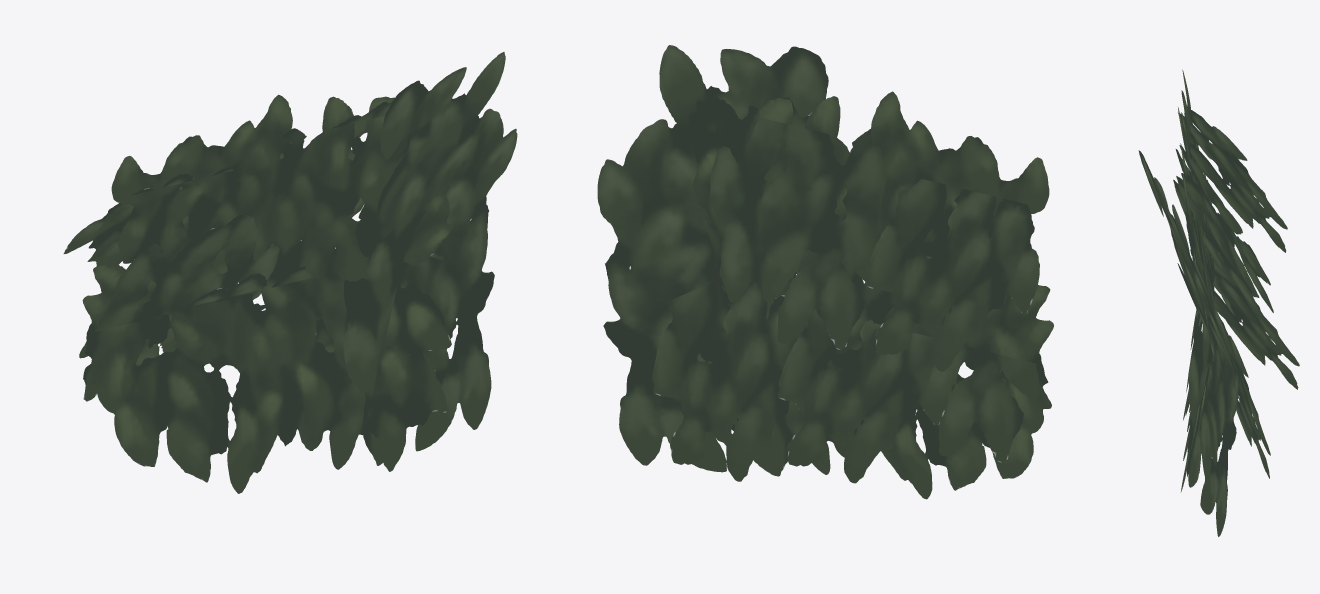
Rendered from ivy-03.fbx.
The picture shows the model from 3 angles, left to right: view 1: azimuth 30°, elevation 25°; view 2: azimuth 150°, elevation 25°; view 3: azimuth 270°, elevation 25°; orthographic projection. The views are drawn at different scales.
Visible parts, largest first — view 1: ivy_03; view 2: ivy_03; view 3: ivy_03.
Part boxes in pixels (bbox=[...]): ivy_03: bbox=[63, 52, 517, 493]; ivy_03: bbox=[597, 45, 1053, 499]; ivy_03: bbox=[1138, 69, 1299, 536].
Bounding box in the file's own units: 226 × 202 × 86.09.
